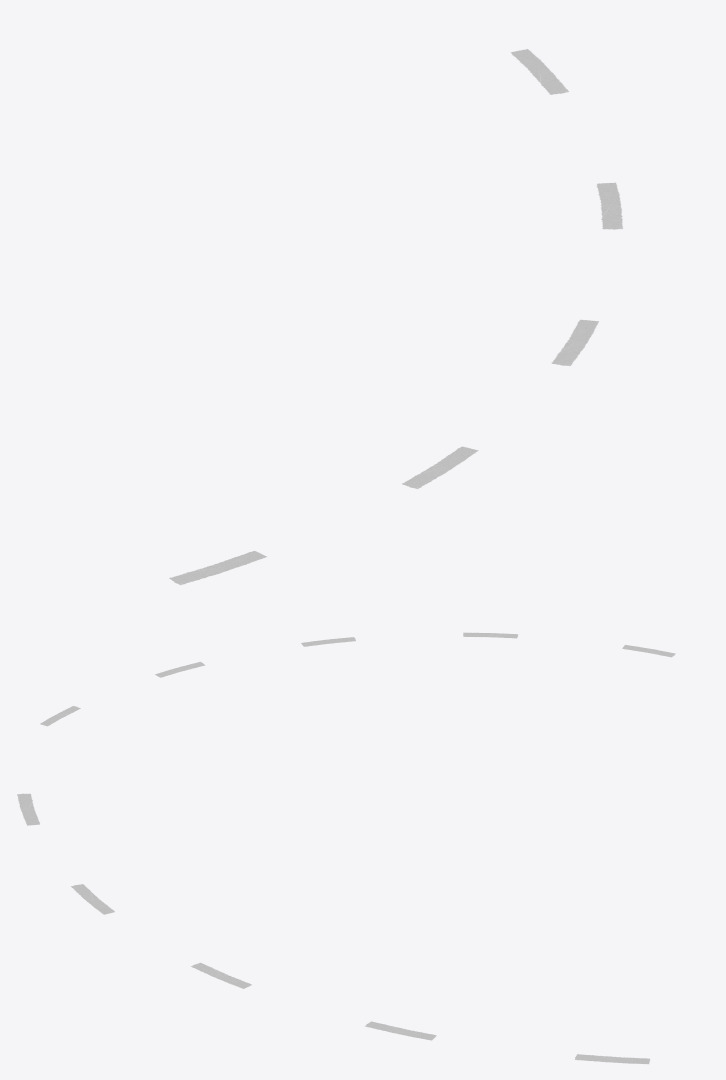
The model's file is Decal_Curve_4LaneShort.glb.
3 renders of one model, top to bottom at view 1: azimuth 30°, elevation 25°; view 2: azimuth 150°, elevation 25°; view 3: azimuth 270°, elevation 25°, orthographic. The views are drawn at different scales.
Parts seen in each view (by area): view 1: Decal_Curve_4LaneShort; view 2: Decal_Curve_4LaneShort; view 3: Decal_Curve_4LaneShort.
Part boxes in pixels (bbox=[...]): Decal_Curve_4LaneShort: bbox=[169, 49, 622, 584]; Decal_Curve_4LaneShort: bbox=[40, 632, 675, 726]; Decal_Curve_4LaneShort: bbox=[17, 793, 649, 1063].
Bounding box in the file's own units: 9.1 × 0 × 9.1.
1 material, 1 textured.
